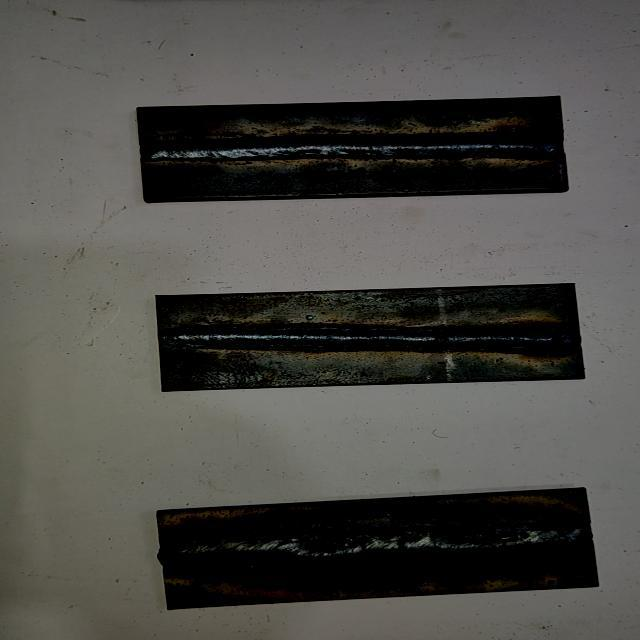Defect: (451, 518, 553, 548), (296, 525, 388, 555)
Welding Line: (165, 524, 587, 568), (140, 136, 564, 164), (162, 324, 578, 351)
Workpiece: (150, 485, 608, 614), (148, 278, 594, 397), (131, 91, 578, 207)
